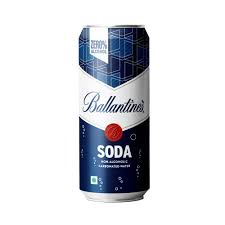can: (78, 25, 150, 202)
